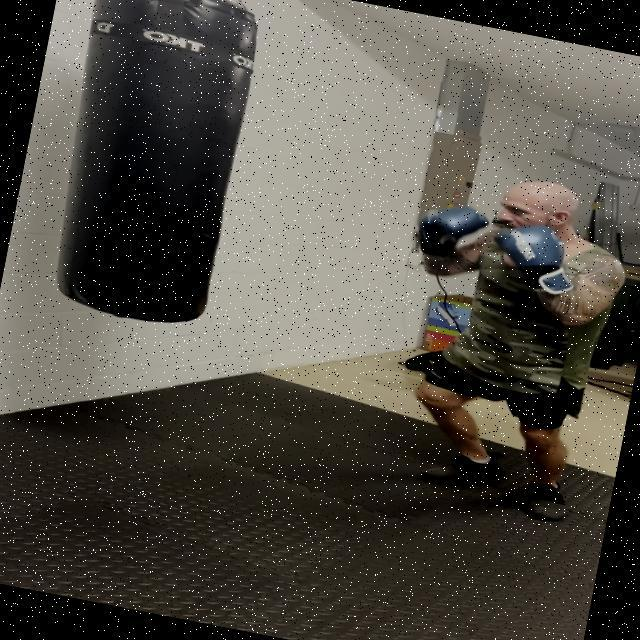bag: (44, 0, 271, 332)
no punch: (396, 152, 640, 333)
